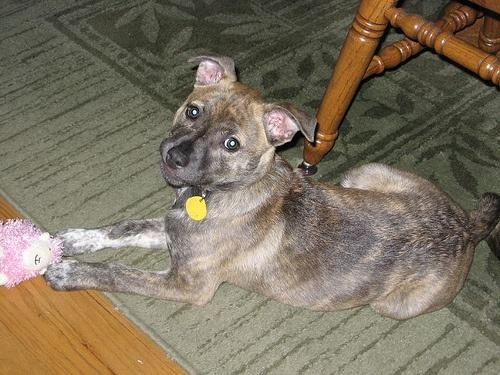chair: (298, 3, 500, 176)
dog: (45, 55, 500, 321)
